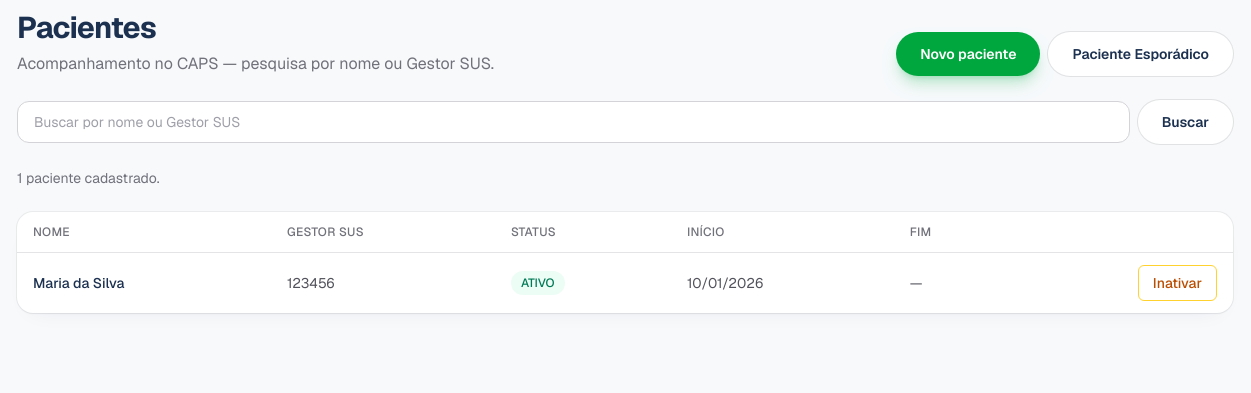
Scenario: PacientesView — interações › gestor altera status e mostra feedback de sucesso transitório
Click the button "Inativar": (1177, 283) [1138,265,1217,301]
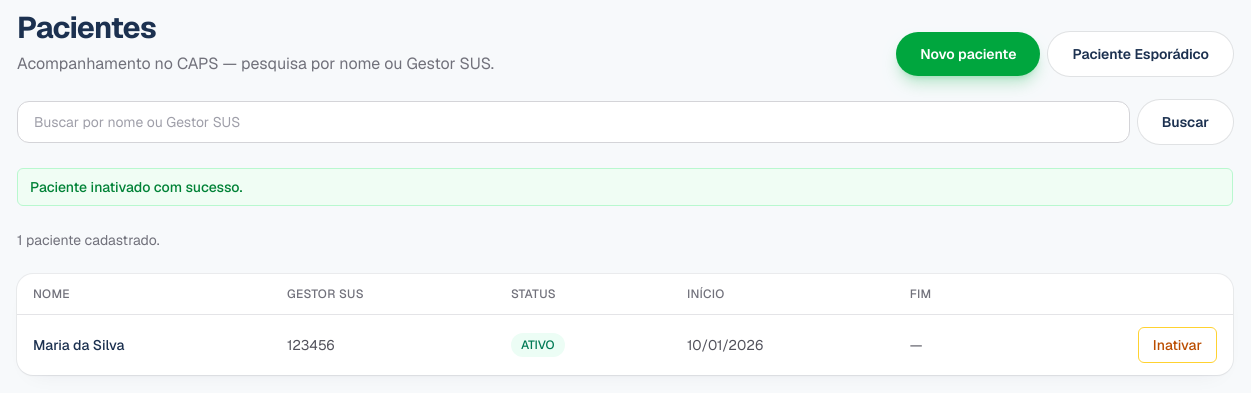
Expected: the message reads "Paciente inativado com sucesso.", [30,178,243,196]
